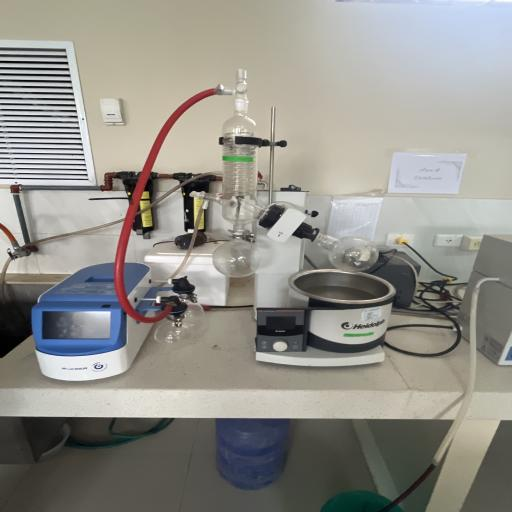Sistema_Rotaevaporacion: (23, 64, 396, 386)
